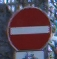No entry: (6, 6, 52, 54)
